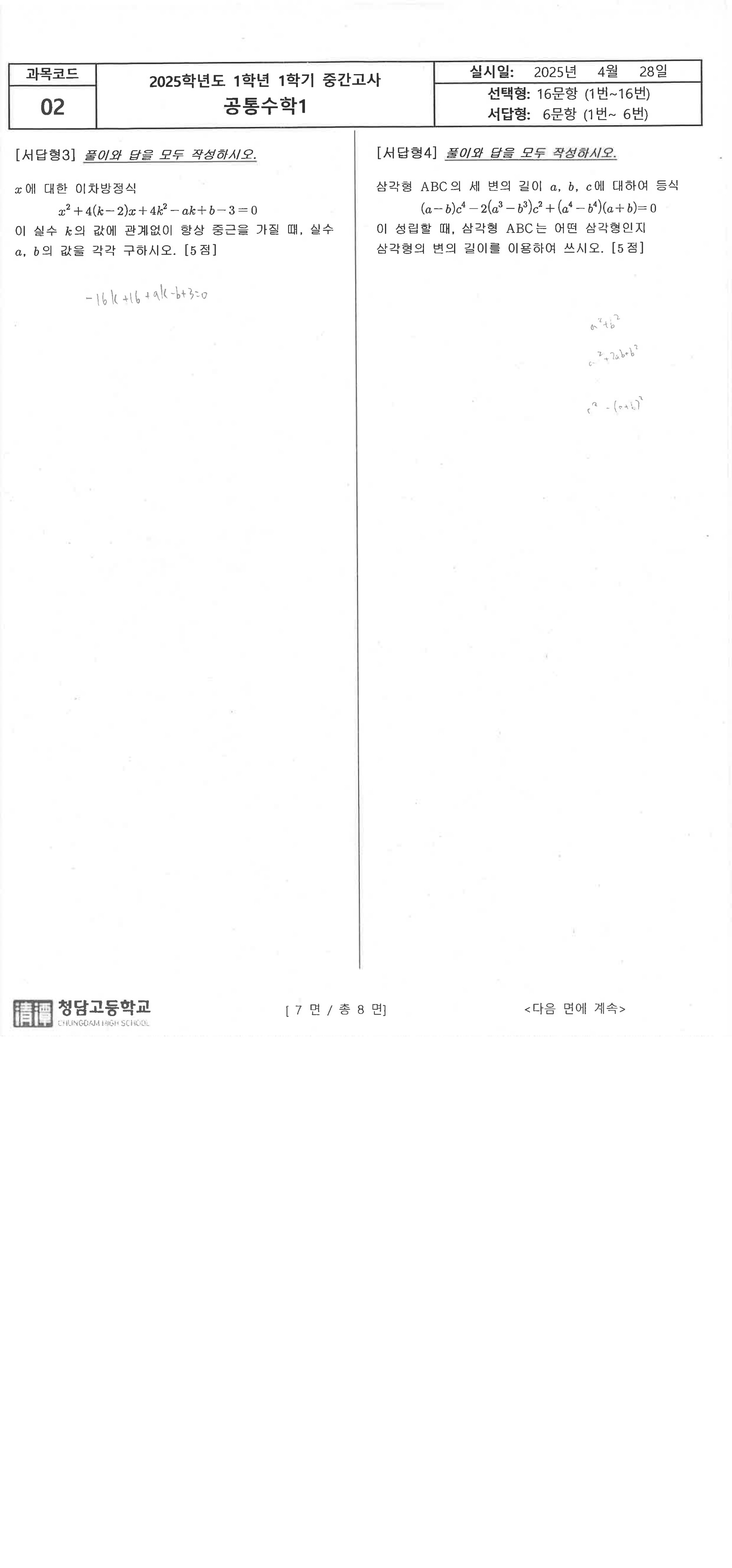problem: (7, 176, 339, 267), (370, 173, 684, 263)
